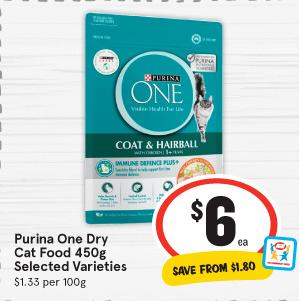description_block: (10, 227, 131, 276)
price_main: (172, 186, 259, 249)
product_image_block: (81, 10, 227, 195)
promo_text_block: (163, 255, 267, 279)
unit_price_block: (8, 274, 91, 290)
